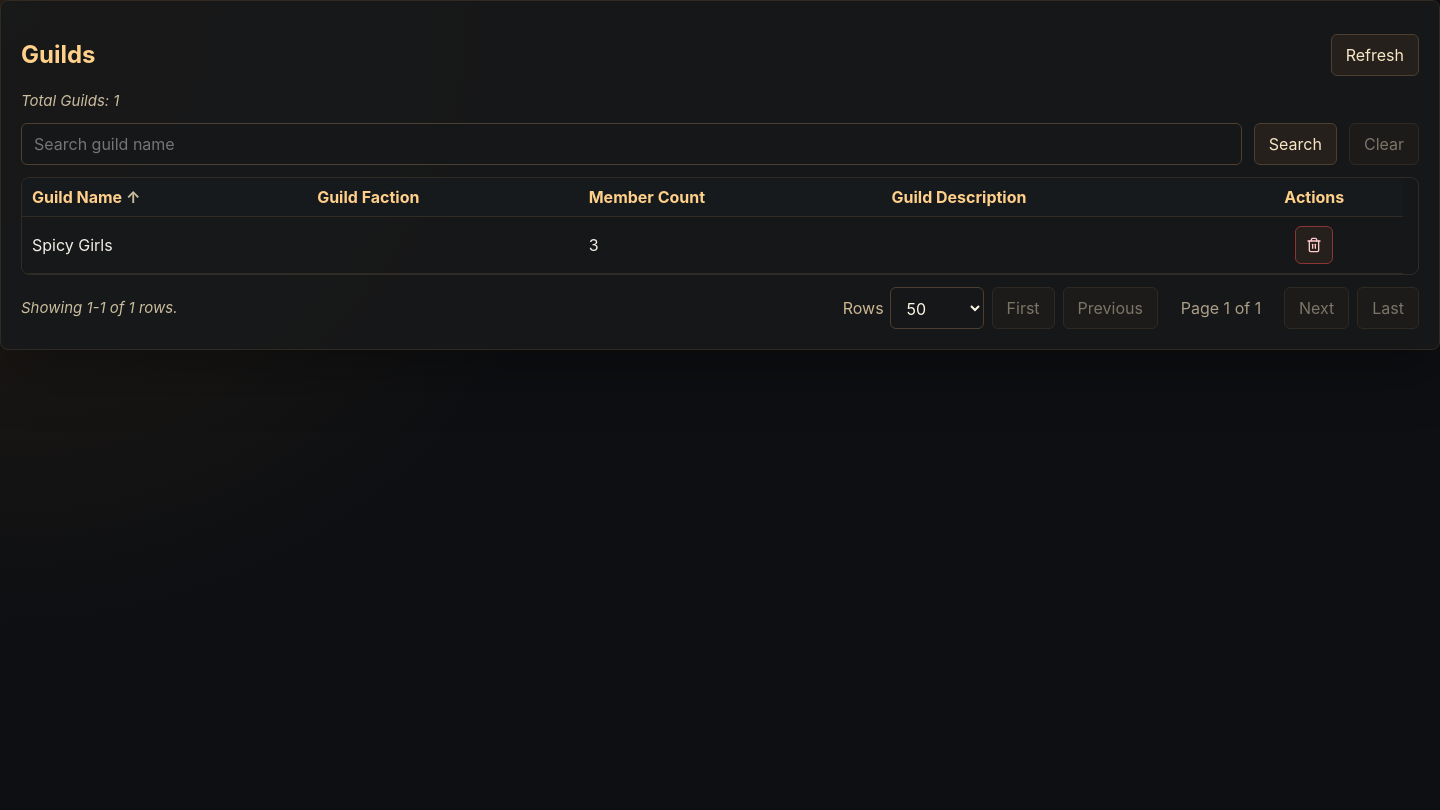
it: GuildsPanel disband guild › closes the member panel when the disbanded guild was open
Click the text "Spicy Girls".
click(165, 245)  # box x1=22 y1=216 x2=307 y2=273
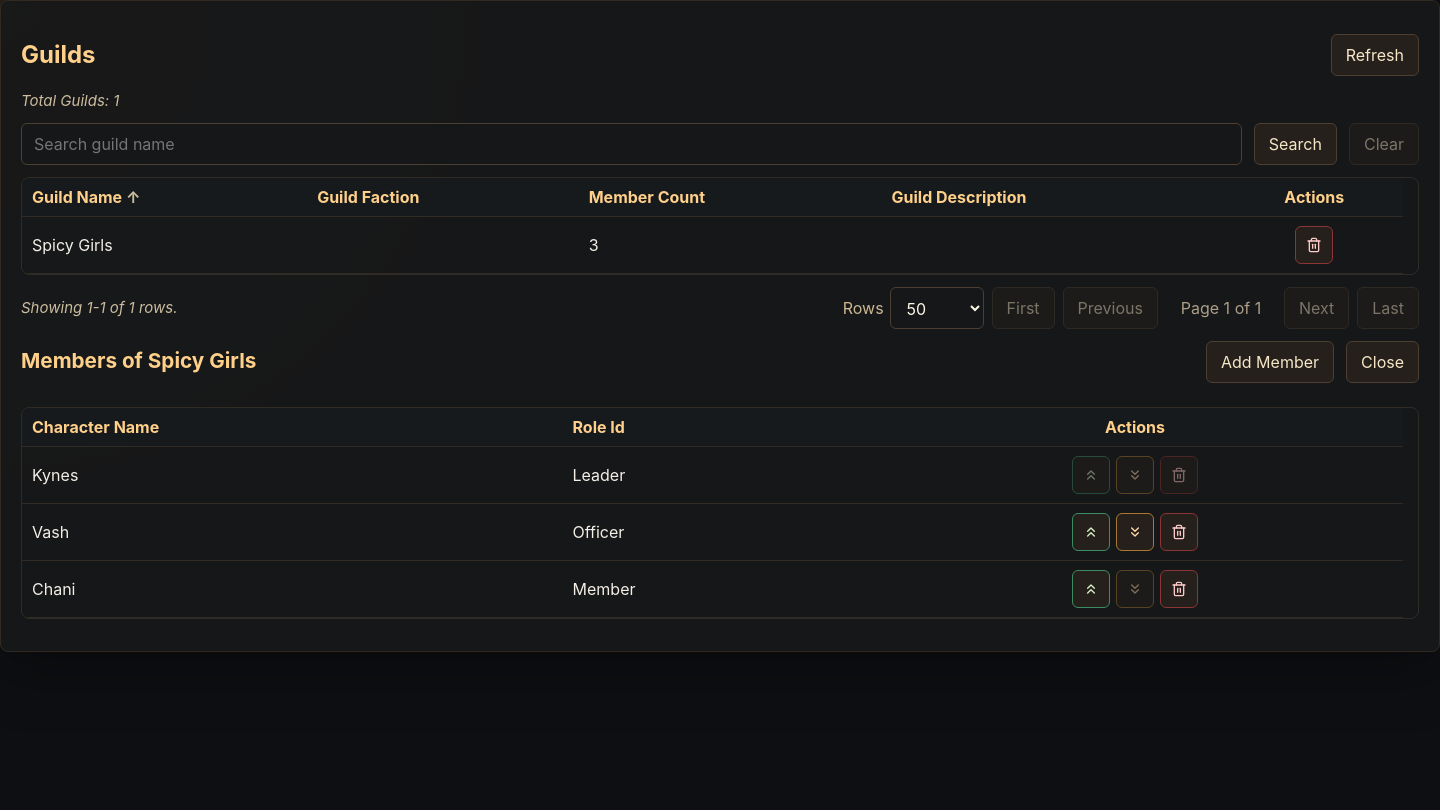
expect the text "Kynes" is shown: met, box x1=22 y1=446 x2=562 y2=503
Click the button named "Disband Spicy Girls".
click(1314, 245)  # box x1=1295 y1=226 x2=1333 y2=264
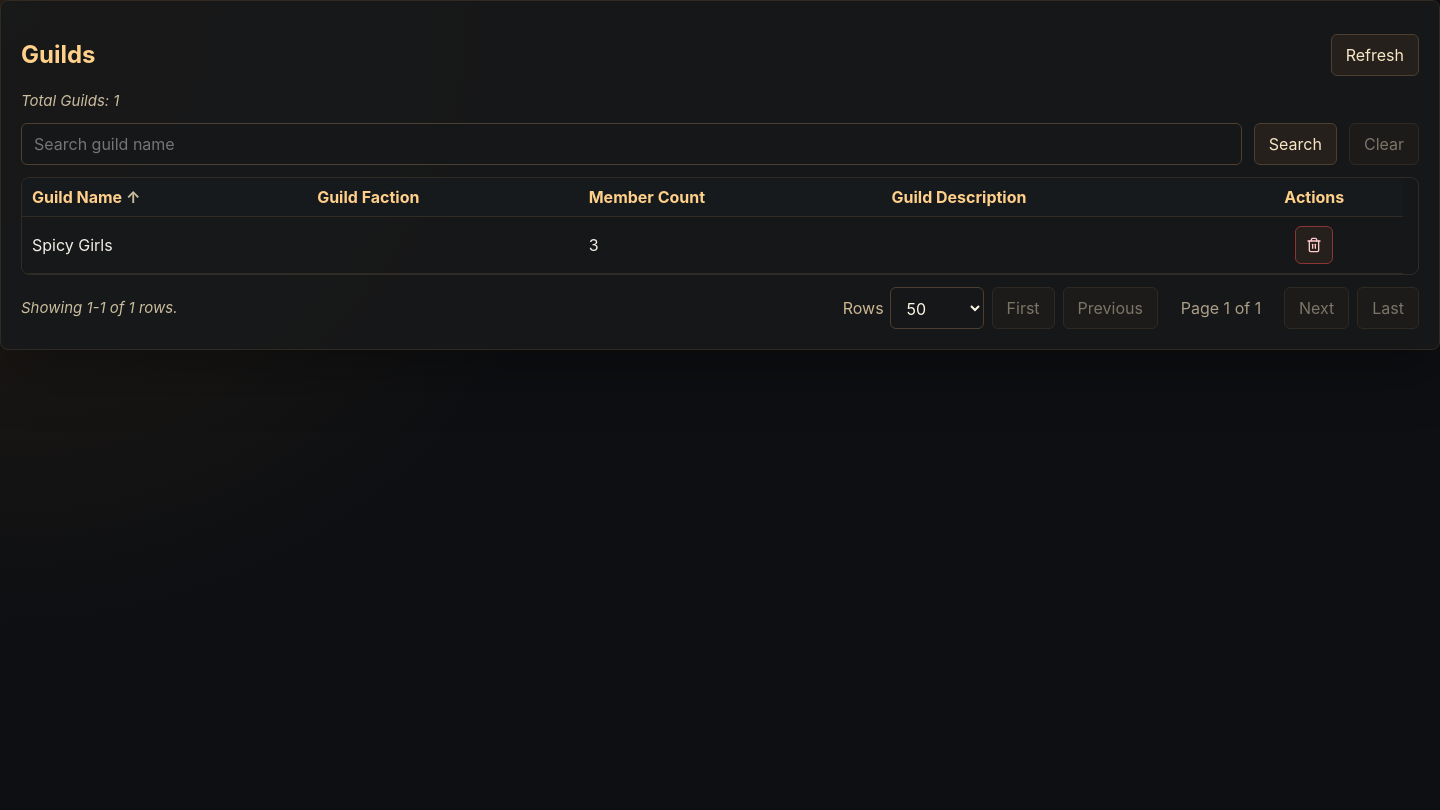
expect the heading "Members of Spicy Girls" is gone: met
